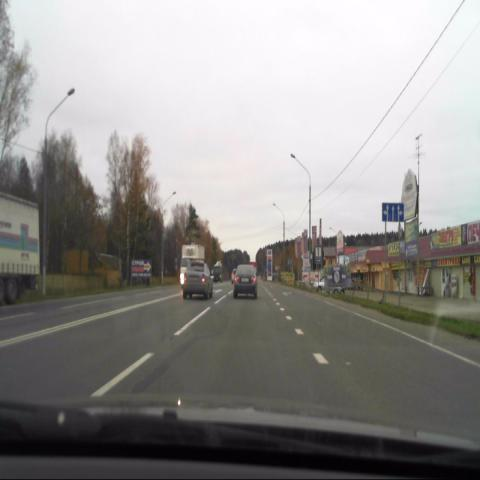5_15_1: (382, 201, 404, 222)
